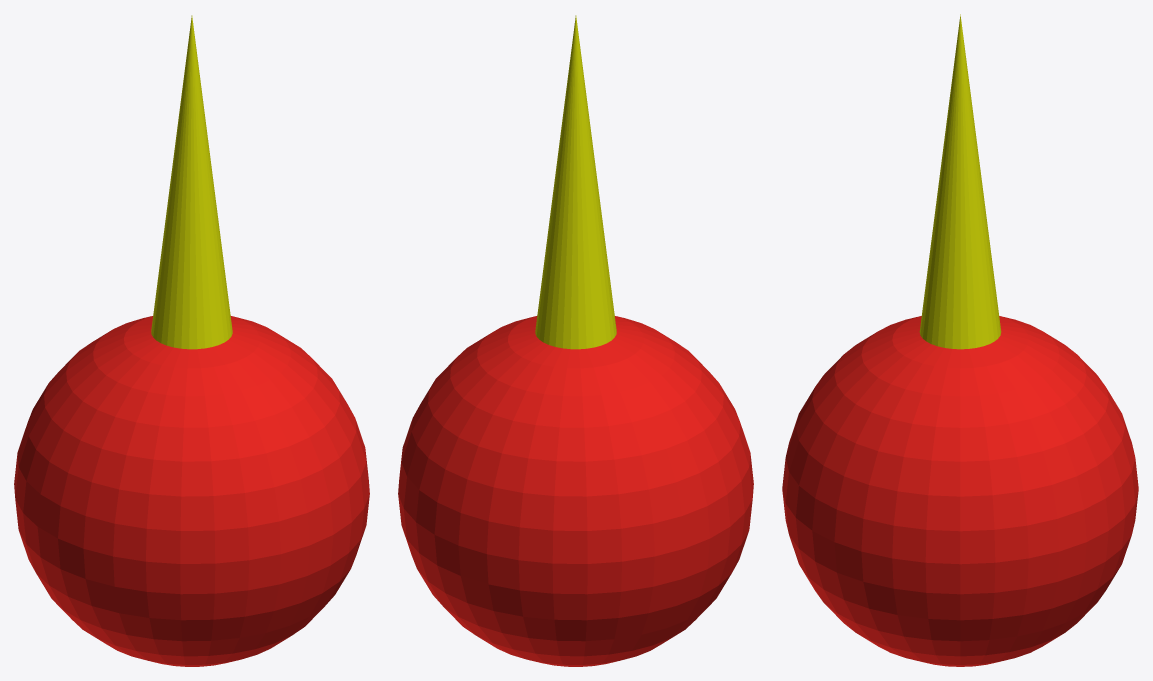
The model's file is float.fbx.
3 renders of one model, left to right at view 1: azimuth 30°, elevation 25°; view 2: azimuth 150°, elevation 25°; view 3: azimuth 270°, elevation 25°, orthographic.
Visible parts, largest first — view 1: Sphere, Cone; view 2: Sphere, Cone; view 3: Sphere, Cone.
Boxes of the visible parts, x1=… form: Sphere: x1=14, y1=316, x2=369, y2=666; Cone: x1=151, y1=15, x2=232, y2=349; Sphere: x1=398, y1=316, x2=753, y2=666; Cone: x1=535, y1=15, x2=616, y2=349; Sphere: x1=782, y1=316, x2=1138, y2=666; Cone: x1=919, y1=14, x2=1001, y2=349.
Bounding box in the file's own units: 200 × 394 × 200.
